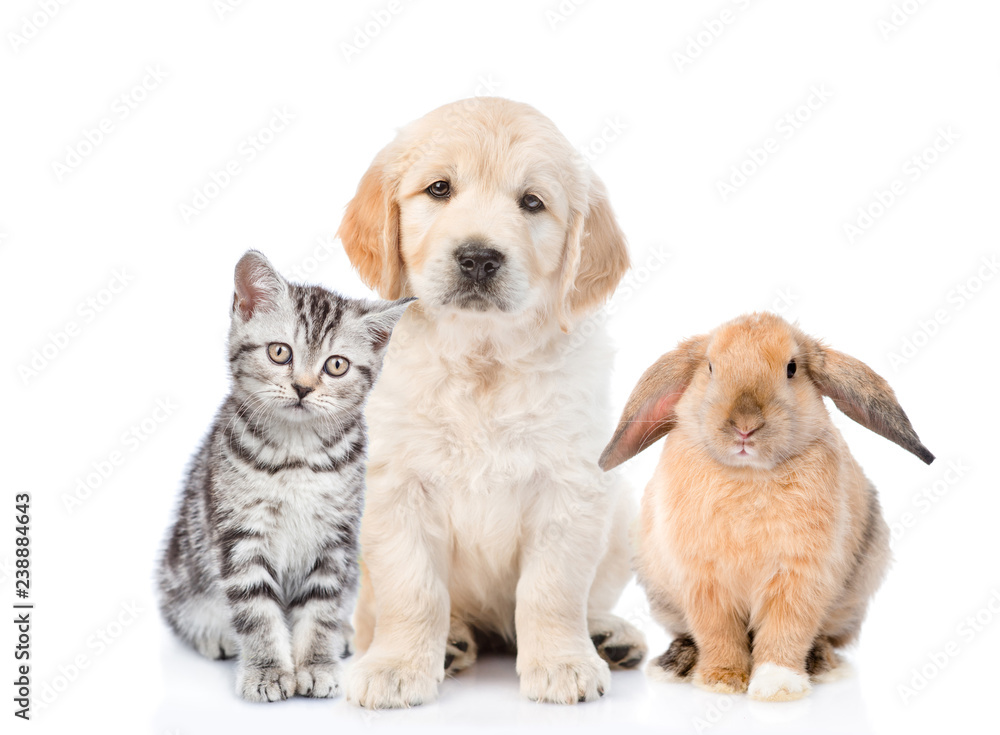cat: (210, 244, 370, 618)
dog: (357, 92, 603, 646)
rabbit: (633, 280, 891, 680)
